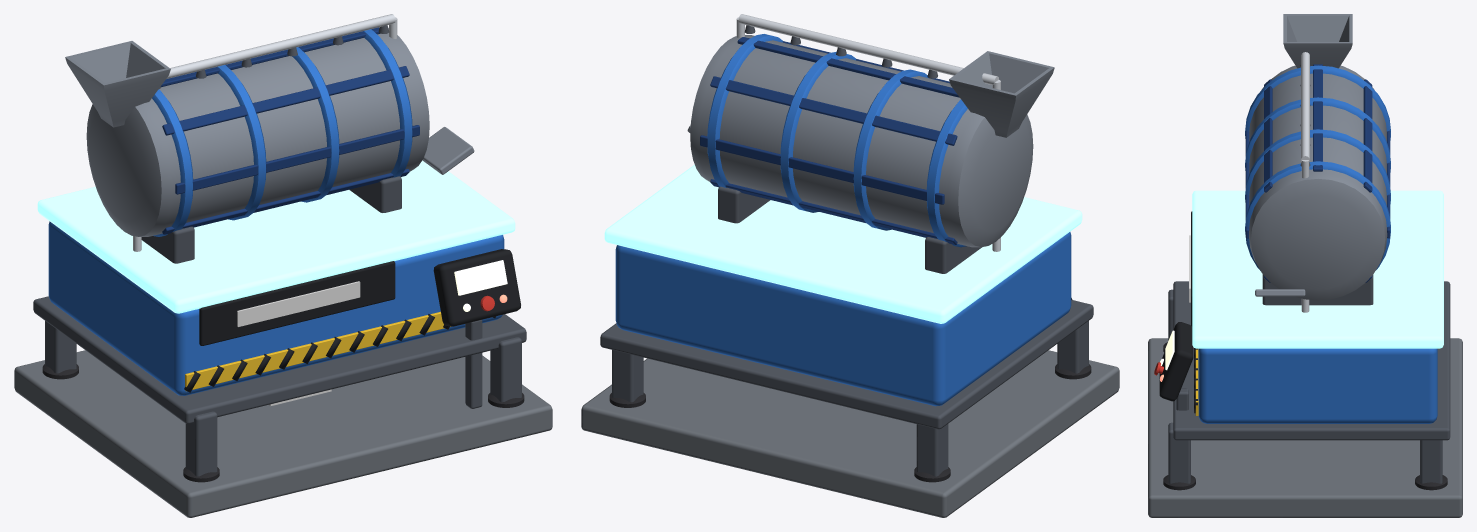
The model's file is Washer.fbx.
3 renders of one model, left to right at view 1: azimuth 30°, elevation 25°; view 2: azimuth 150°, elevation 25°; view 3: azimuth 270°, elevation 25°, orthographic. The views are drawn at different scales.
Parts seen in each view (by area): view 1: Body__Plate, Drum__Steel, Body__NeonCyan, Body__MetalDark, Body__Blue, Body__Black, Drum__BlueDark, Drum__Blue, Body__Steel, Body__Yellow, Body__Chrome, Body__NeonCyan!1 (+2 smaller); view 2: Body__Plate, Body__Blue, Drum__Steel, Body__NeonCyan, Body__MetalDark, Drum__BlueDark, Drum__Blue, Body__Steel, Body__Chrome, Body__Rubber; view 3: Body__Plate, Body__NeonCyan, Drum__Steel, Body__Blue, Body__MetalDark, Drum__Blue, Body__Steel, Drum__BlueDark, Body__Black, Body__Chrome, Body__Rubber.
Part boxes in pixels (x1,y1,x2,y2): Body__Plate: [14, 350, 552, 517]; Drum__Steel: [86, 27, 429, 236]; Body__NeonCyan: [37, 160, 515, 313]; Body__MetalDark: [33, 25, 526, 476]; Body__Blue: [48, 221, 504, 395]; Body__Black: [184, 249, 520, 392]; Drum__BlueDark: [160, 27, 419, 234]; Drum__Blue: [152, 29, 412, 236]; Body__Steel: [65, 41, 474, 174]; Body__Yellow: [185, 311, 450, 391]; Body__Chrome: [133, 14, 397, 251]; Body__NeonCyan!1: [237, 281, 360, 326]; Body__Plate: [581, 350, 1119, 517]; Body__Blue: [615, 232, 1071, 406]; Drum__Steel: [690, 35, 1033, 247]; Body__NeonCyan: [604, 164, 1082, 323]; Body__MetalDark: [600, 25, 1093, 476]; Drum__BlueDark: [700, 37, 959, 244]; Drum__Blue: [707, 34, 967, 247]; Body__Steel: [687, 51, 1054, 137]; Body__Chrome: [736, 14, 1000, 251]; Body__Rubber: [609, 364, 1091, 482]; Body__Plate: [1148, 338, 1462, 517]; Body__NeonCyan: [1192, 190, 1443, 348]; Drum__Steel: [1249, 65, 1387, 300]; Body__Blue: [1198, 348, 1437, 423]; Body__MetalDark: [1168, 65, 1450, 483]; Drum__Blue: [1245, 65, 1390, 270]; Body__Steel: [1255, 14, 1352, 296]; Drum__BlueDark: [1245, 64, 1390, 282]; Body__Black: [1159, 211, 1197, 413]; Body__Chrome: [1301, 52, 1309, 312]; Body__Rubber: [1163, 342, 1447, 490].
Size of the model in its own units: 6.15 by 6.49 by 5.
